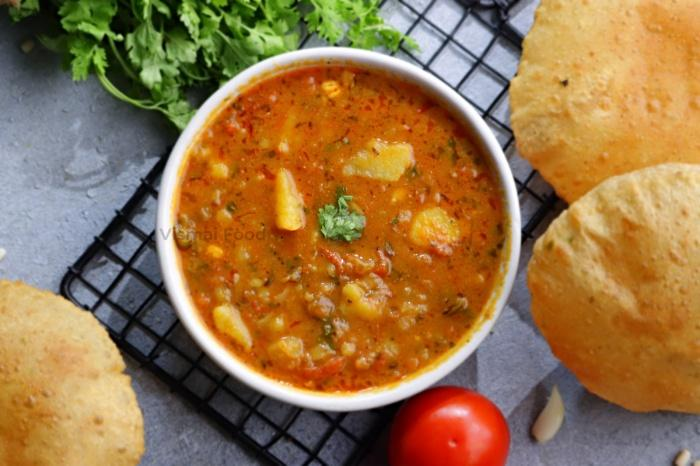puri: (519, 0, 700, 416)
